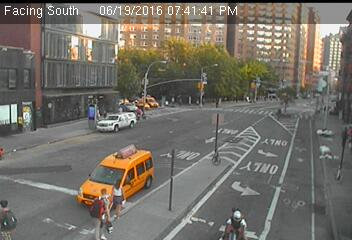neg: (223, 203, 248, 236), (102, 120, 121, 145), (270, 103, 287, 125), (163, 109, 179, 130), (210, 107, 225, 127), (215, 136, 230, 156)
pos: (84, 186, 120, 234), (104, 177, 134, 217)
